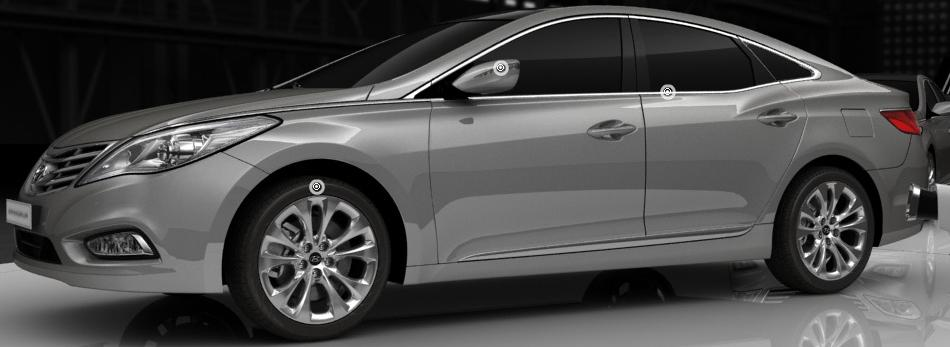front_view: (9, 107, 293, 301)
headlight: (83, 116, 282, 191)
side_glass: (437, 13, 823, 112)
